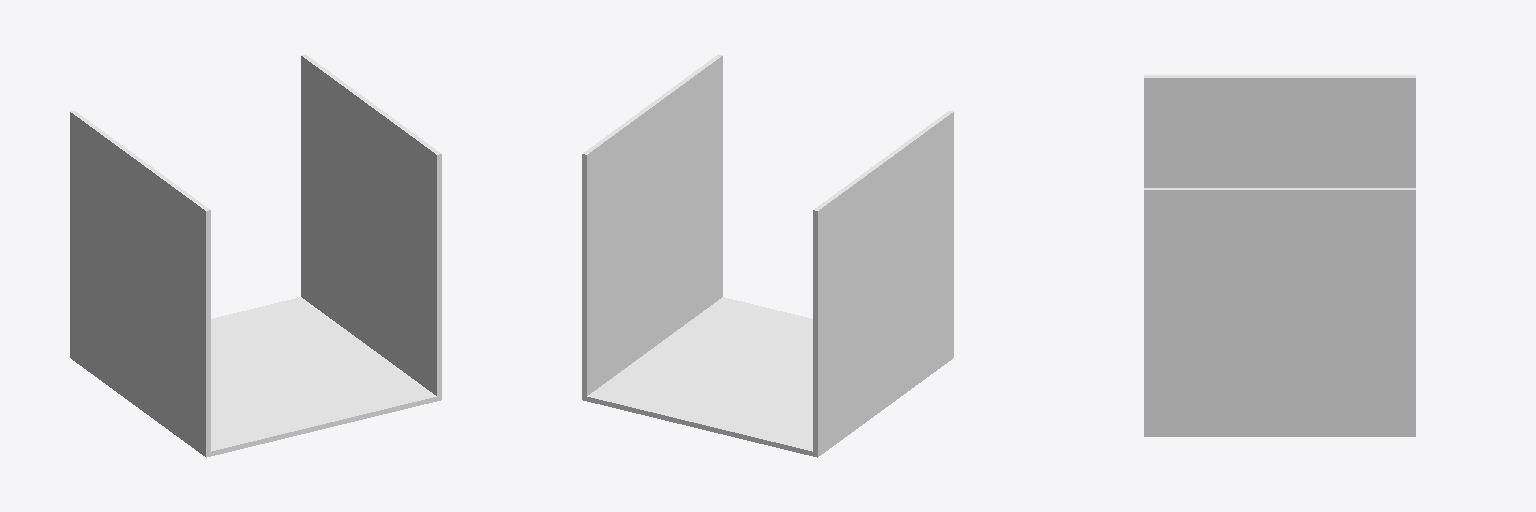
The model's file is TileCorridor.obj.
3 renders of one model, left to right at view 1: azimuth 30°, elevation 25°; view 2: azimuth 150°, elevation 25°; view 3: azimuth 270°, elevation 25°, orthographic.
Visible parts, largest first — view 1: object 1; view 2: object 1; view 3: object 1.
Part boxes in pixels (bbox=[...]): object 1: bbox=[70, 54, 441, 457]; object 1: bbox=[582, 54, 953, 457]; object 1: bbox=[1144, 75, 1415, 436].
Bounding box in the file's own units: 5 × 5 × 5.